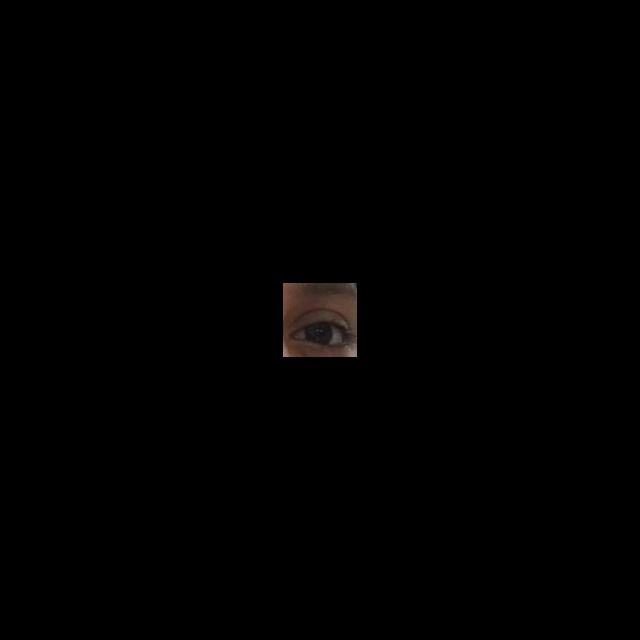eye: (298, 323, 344, 346)
iris: (306, 323, 332, 345)
